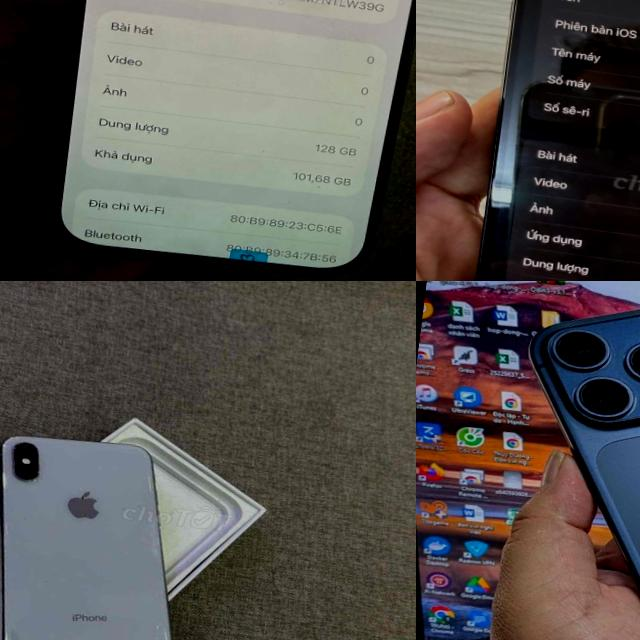gen_15: (31, 0, 416, 279), (424, 0, 640, 281)
gen_17: (481, 281, 640, 640)
gen_x_xs: (0, 413, 208, 640)
